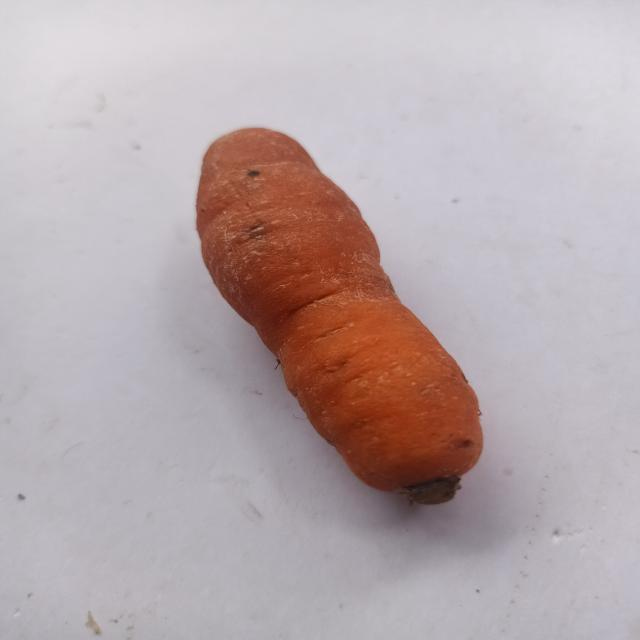Carrot: (178, 108, 491, 519)
